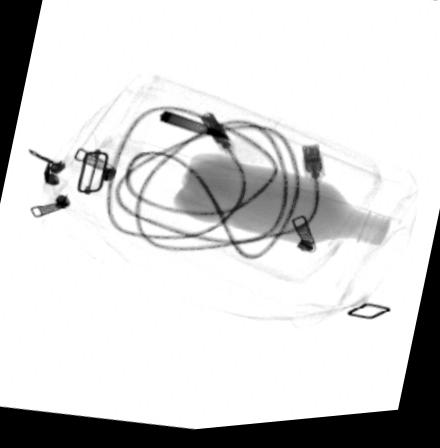Bullet: (158, 113, 230, 144)
